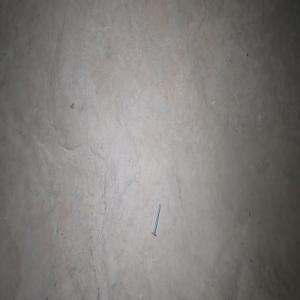Bolt: (151, 201, 161, 236)
